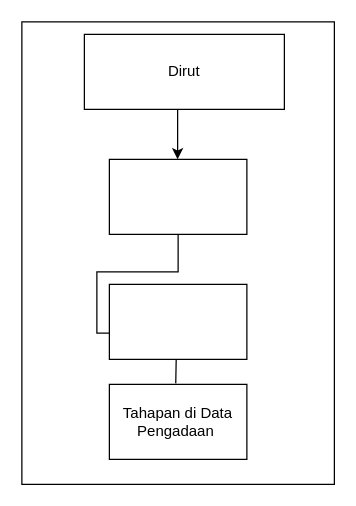
The diagram is 356 pixels wide and 506 high, and some of its shapes have lost their labels. The shapes that lost their labels are listed below. From the top down, each one's box as (x1, y1, x2, y2) in pixels, then its label:
(108, 158, 247, 234): Data Pengadaan
(108, 283, 247, 359): Memberi keputusan Proyek Dilakukan atau Tidak
